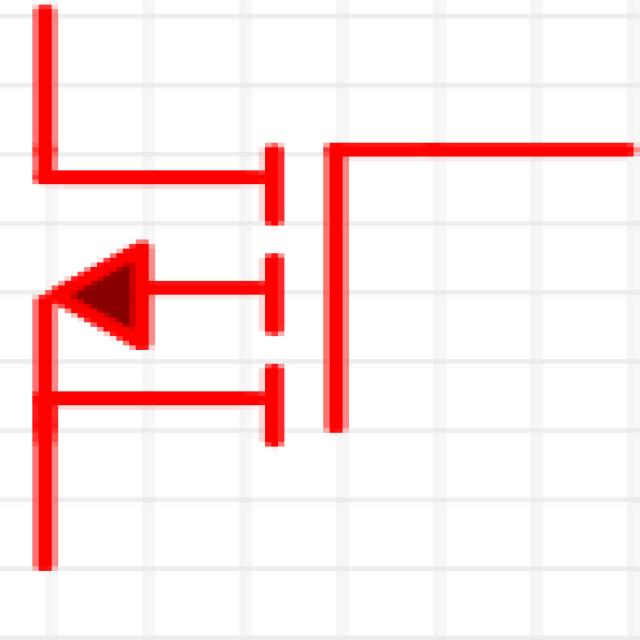pmos: (6, 12, 630, 550)
